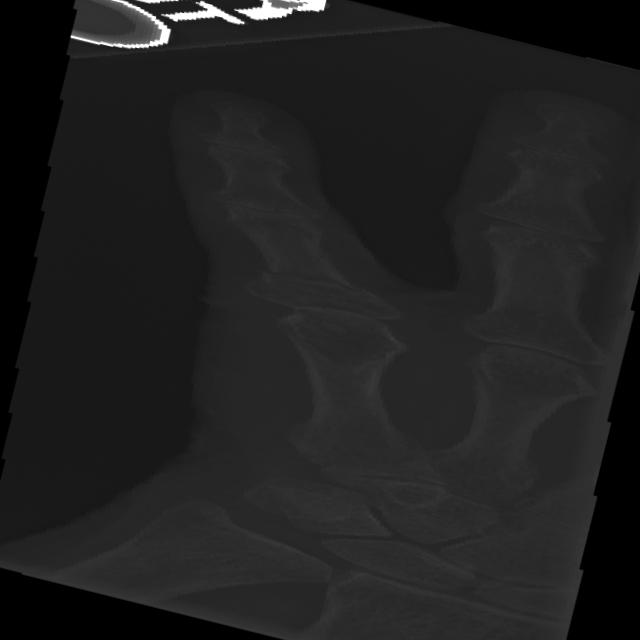fingers positive: (231, 253, 414, 307)
